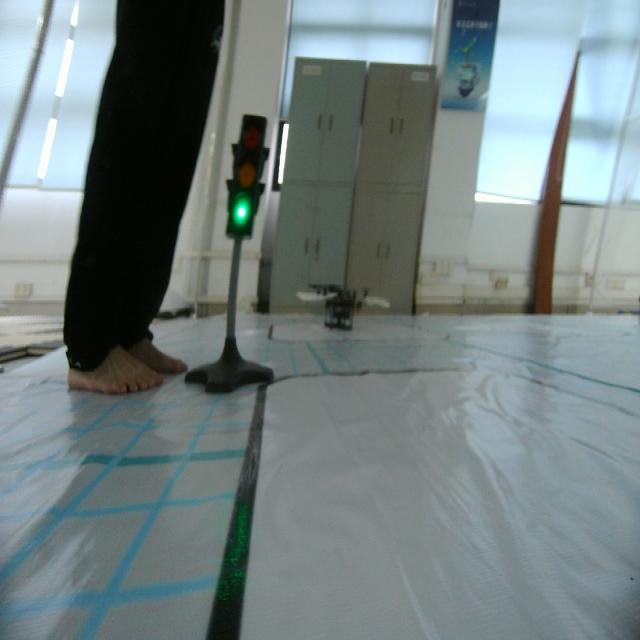green: (224, 100, 265, 243)
